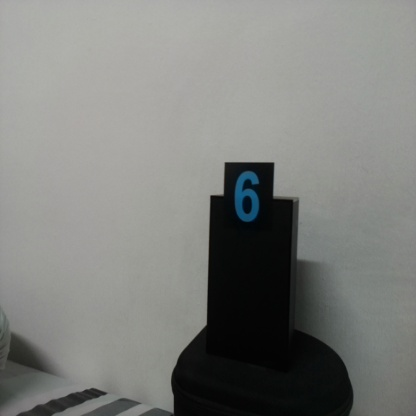id_6: (224, 163, 273, 237)
